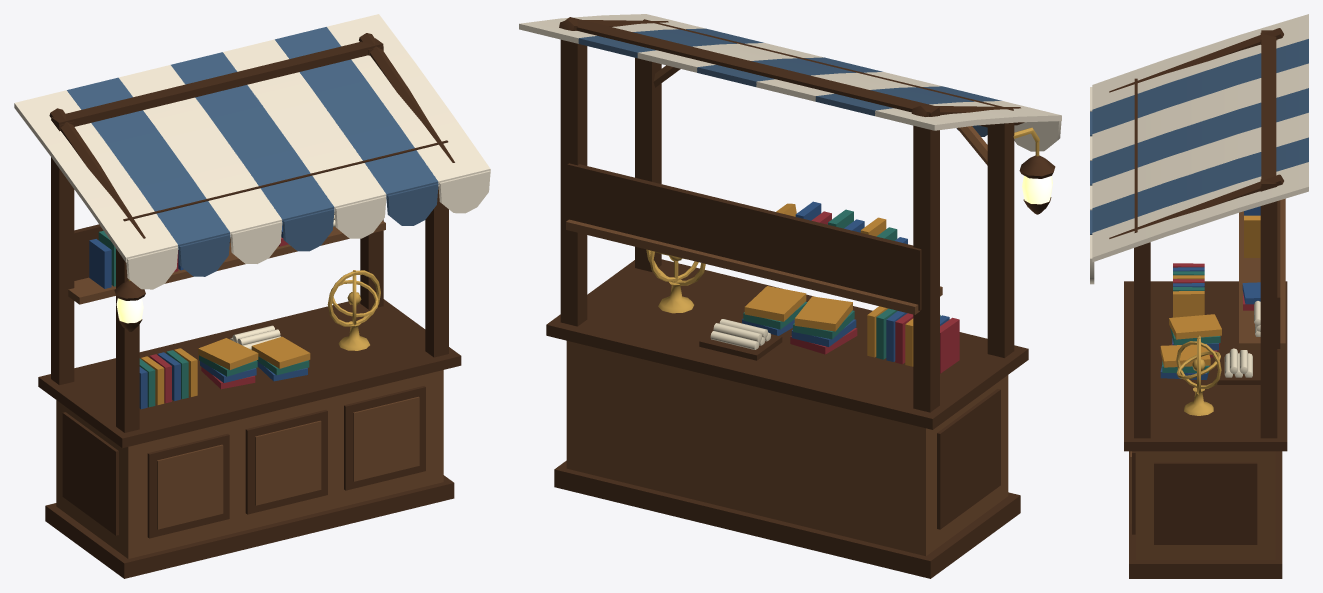
Rendered from prop_market_bookstall.glb.
3 views of the same model, side by side, from view 1: azimuth 30°, elevation 25°; view 2: azimuth 150°, elevation 25°; view 3: azimuth 270°, elevation 25° (orthographic). The views are drawn at different scales.
Parts seen in each view (by area): view 1: prop_market_bookstall; view 2: prop_market_bookstall; view 3: prop_market_bookstall.
Part boxes in pixels (x1,y1,x2,y2): prop_market_bookstall: (14, 14, 490, 578); prop_market_bookstall: (519, 14, 1061, 578); prop_market_bookstall: (1090, 14, 1308, 578).
Size of the model in its own units: 2.46 by 2.65 by 1.31.
